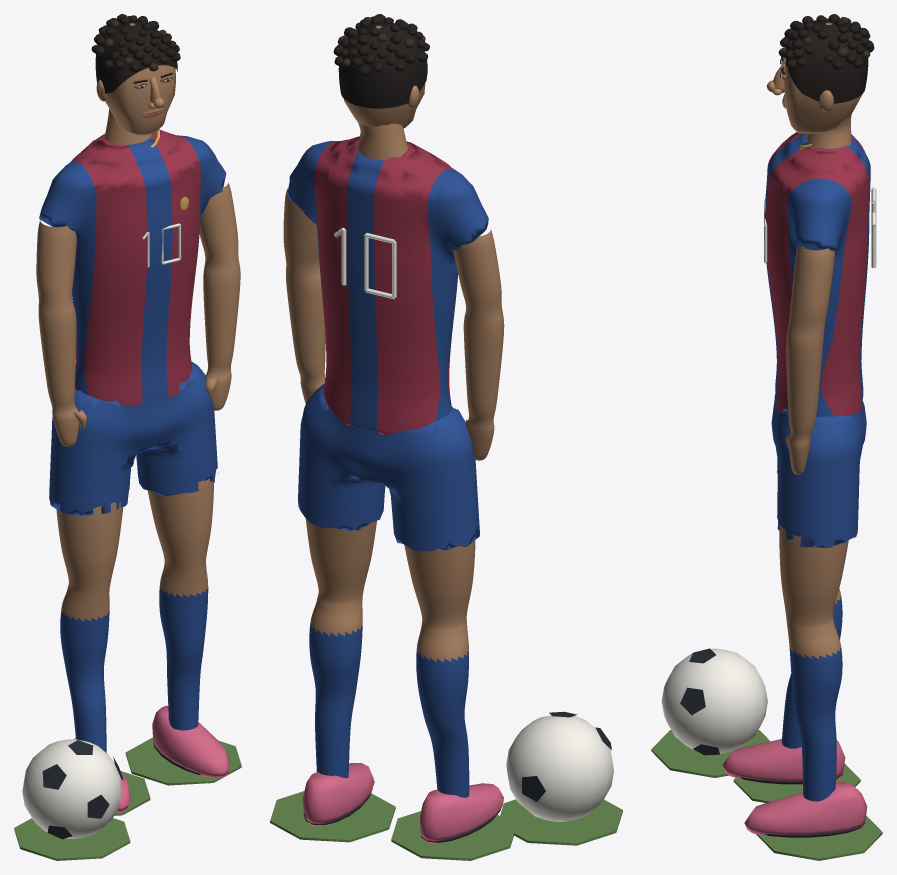
The model's file is yamal.glb.
3 views of the same model, side by side, from view 1: azimuth 30°, elevation 25°; view 2: azimuth 150°, elevation 25°; view 3: azimuth 270°, elevation 25° (orthographic). The views are drawn at different scales.
Visible parts, largest first — view 1: jersey_burgundy, shorts_blue, arms_brown, jersey_blue, legs_brown, legs_blue, football_white, turf_grass, boots_pink, head_brown, curls_blackHair, hair_cap_blackHair (+2 smaller); view 2: jersey_burgundy, shorts_blue, jersey_blue, arms_brown, legs_brown, legs_blue, turf_grass, football_white, boots_pink, hair_cap_blackHair, curls_blackHair, neck_brown (+3 smaller); view 3: jersey_burgundy, shorts_blue, football_white, boots_pink, jersey_blue, arms_brown, legs_blue, legs_brown, turf_grass, hair_cap_blackHair, curls_blackHair, head_brown (+4 smaller).
Boxes of the visible parts, left/top/right/bottom form: jersey_burgundy: left=71, top=129, right=200, bottom=406; shorts_blue: left=49, top=361, right=218, bottom=516; arms_brown: left=36, top=182, right=240, bottom=446; jersey_blue: left=39, top=135, right=226, bottom=401; legs_brown: left=56, top=478, right=213, bottom=621; legs_blue: left=60, top=586, right=208, bottom=752; football_white: left=22, top=739, right=122, bottom=838; turf_grass: left=14, top=737, right=241, bottom=860; boots_pink: left=74, top=705, right=229, bottom=812; head_brown: left=105, top=23, right=175, bottom=135; curls_blackHair: left=91, top=14, right=180, bottom=72; hair_cap_blackHair: left=95, top=21, right=177, bottom=93; jersey_burgundy: left=314, top=136, right=453, bottom=434; shorts_blue: left=298, top=384, right=479, bottom=551; jersey_blue: left=287, top=141, right=488, bottom=431; arms_brown: left=283, top=188, right=504, bottom=460; legs_brown: left=305, top=518, right=475, bottom=662; legs_blue: left=309, top=622, right=469, bottom=797; turf_grass: left=270, top=791, right=622, bottom=860; football_white: left=506, top=715, right=613, bottom=821; boots_pink: left=302, top=763, right=503, bottom=843; hair_cap_blackHair: left=338, top=21, right=427, bottom=108; curls_blackHair: left=333, top=14, right=429, bottom=75; neck_brown: left=357, top=122, right=407, bottom=160; jersey_burgundy: left=766, top=132, right=869, bottom=416; shorts_blue: left=771, top=392, right=866, bottom=547; football_white: left=661, top=648, right=767, bottom=753; boots_pink: left=722, top=739, right=867, bottom=837; jersey_blue: left=764, top=133, right=870, bottom=416; arms_brown: left=786, top=244, right=834, bottom=474; legs_blue: left=781, top=597, right=842, bottom=801; legs_brown: left=779, top=525, right=848, bottom=658; turf_grass: left=651, top=730, right=882, bottom=860; hair_cap_blackHair: left=786, top=20, right=868, bottom=103; curls_blackHair: left=780, top=14, right=874, bottom=69; head_brown: left=784, top=22, right=862, bottom=133.
Bounding box in the file's own units: 0.6595 × 1.78 × 0.4722.
